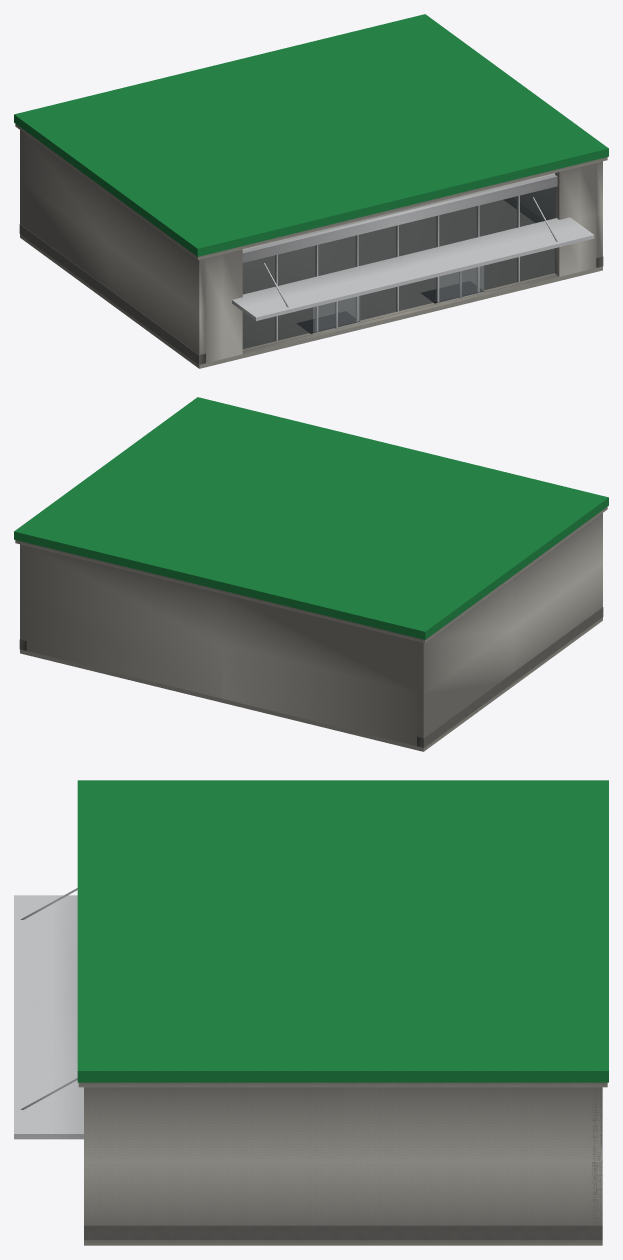
File: station_concourse.glb
3 renders of one model, top to bottom at view 1: azimuth 30°, elevation 25°; view 2: azimuth 150°, elevation 25°; view 3: azimuth 270°, elevation 25°, orthographic. The views are drawn at different scales.
Visible parts, largest first — view 1: band, station_concourse_tiles_wall, station_concourse_glass, station_concourse_aluminium, floor, station_concourse_concrete, station_concourse_glass_clear, station_concourse_concrete_dark, station_concourse_rubber, station_concourse_paint_white; view 2: band, station_concourse_tiles_wall, station_concourse_concrete, station_concourse_concrete_dark; view 3: band, station_concourse_tiles_wall, station_concourse_aluminium, station_concourse_concrete_dark, station_concourse_concrete.
Boxes of the visible parts, bbox=[...] form: band: bbox=[14, 14, 608, 256]; station_concourse_tiles_wall: bbox=[20, 130, 602, 362]; station_concourse_glass: bbox=[242, 187, 555, 348]; station_concourse_aluminium: bbox=[232, 174, 594, 341]; floor: bbox=[242, 200, 556, 351]; station_concourse_concrete: bbox=[15, 124, 607, 368]; station_concourse_glass_clear: bbox=[313, 266, 483, 333]; station_concourse_concrete_dark: bbox=[19, 197, 603, 364]; station_concourse_rubber: bbox=[297, 281, 483, 333]; station_concourse_paint_white: bbox=[242, 173, 554, 250]; band: bbox=[14, 397, 608, 639]; station_concourse_tiles_wall: bbox=[20, 513, 602, 745]; station_concourse_concrete: bbox=[15, 507, 607, 751]; station_concourse_concrete_dark: bbox=[19, 607, 603, 747]; band: bbox=[77, 780, 608, 1082]; station_concourse_tiles_wall: bbox=[84, 1087, 602, 1225]; station_concourse_aluminium: bbox=[14, 895, 83, 1139]; station_concourse_concrete_dark: bbox=[84, 1225, 602, 1239]; station_concourse_concrete: bbox=[78, 1082, 607, 1245].
Size of what is drawn, in the model's own units: 26.5 by 7.55 by 22.95.
Materials: 17 (14 with a texture image).
